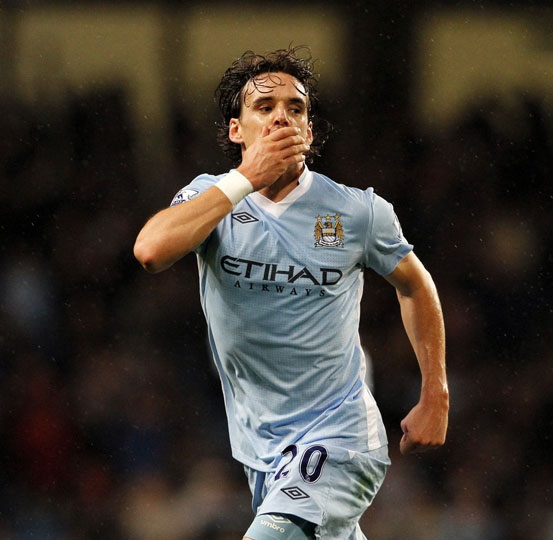face: (240, 74, 309, 162)
